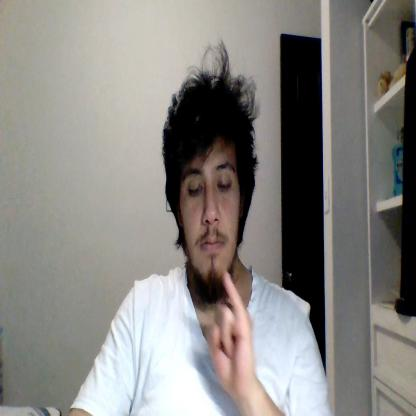I: (207, 271, 255, 395)
